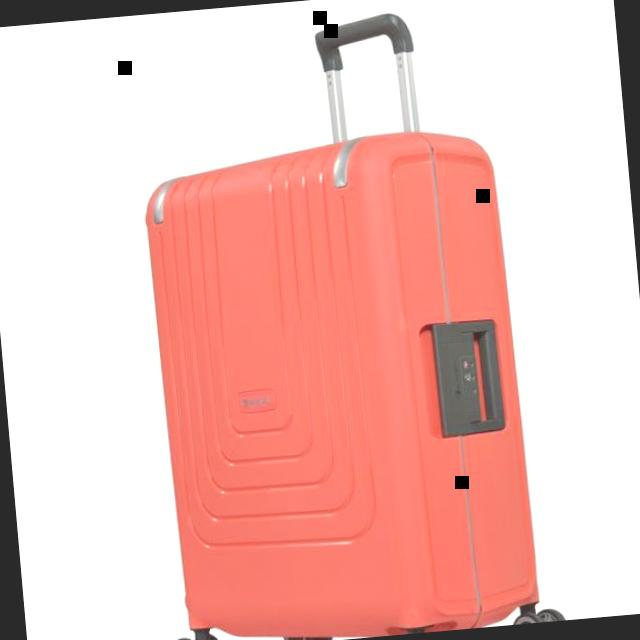luggage: (128, 119, 544, 640)
